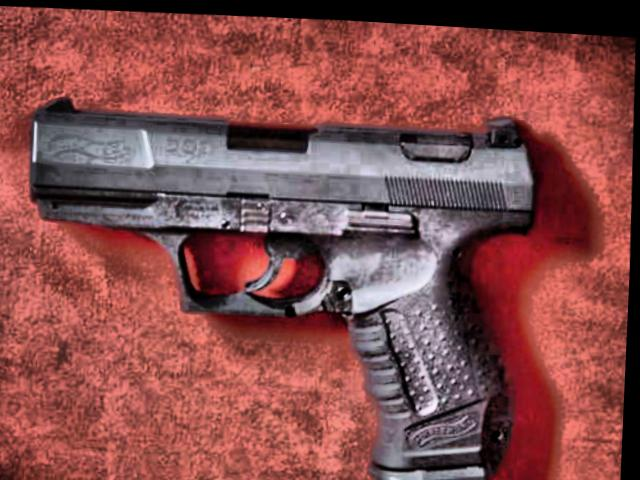pistol: (17, 78, 543, 480)
